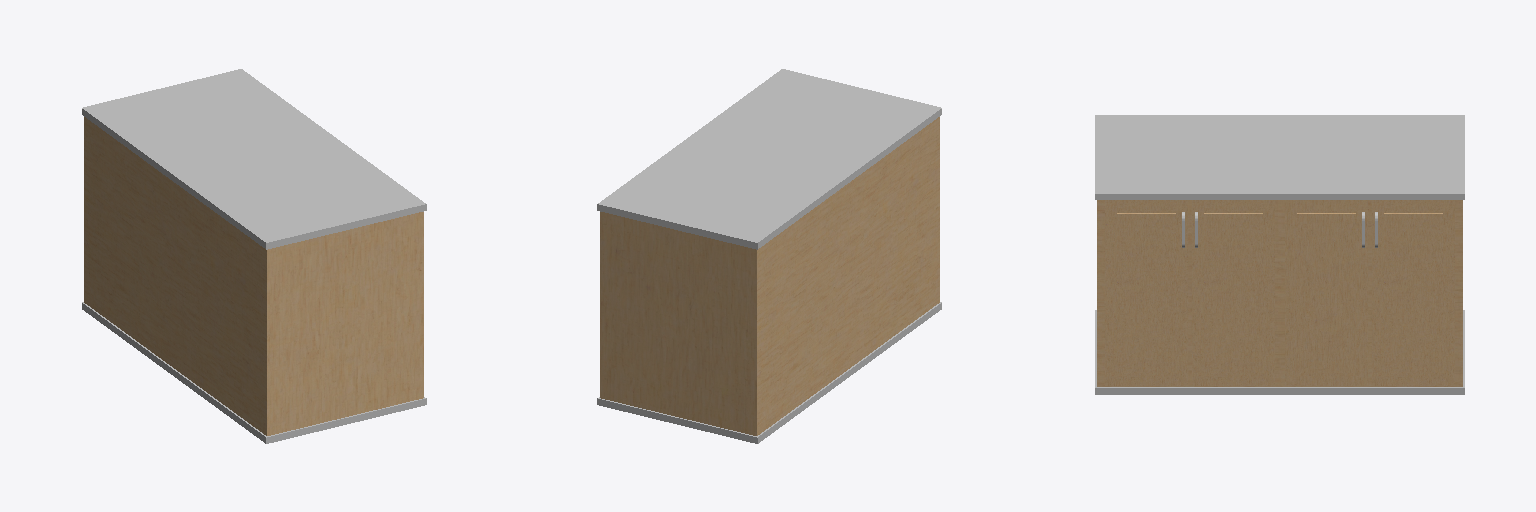
3 renders of one model, left to right at view 1: azimuth 30°, elevation 25°; view 2: azimuth 150°, elevation 25°; view 3: azimuth 270°, elevation 25°, orthographic.
Parts seen in each view (by area): view 1: double_stand; view 2: double_stand; view 3: double_stand, hatch_3, hatch_4, hatch_2, hatch_1.
Boxes of the visible parts, x1=… form: double_stand: x1=82, y1=69, x2=426, y2=443; double_stand: x1=597, y1=69, x2=941, y2=443; double_stand: x1=1095, y1=115, x2=1464, y2=394; hatch_3: x1=1285, y1=200, x2=1367, y2=385; hatch_4: x1=1372, y1=200, x2=1454, y2=385; hatch_2: x1=1192, y1=200, x2=1274, y2=385; hatch_1: x1=1105, y1=200, x2=1187, y2=385.
Bounding box in the file's own units: 1.02 × 1.2 × 2.
2 materials, 1 textured.